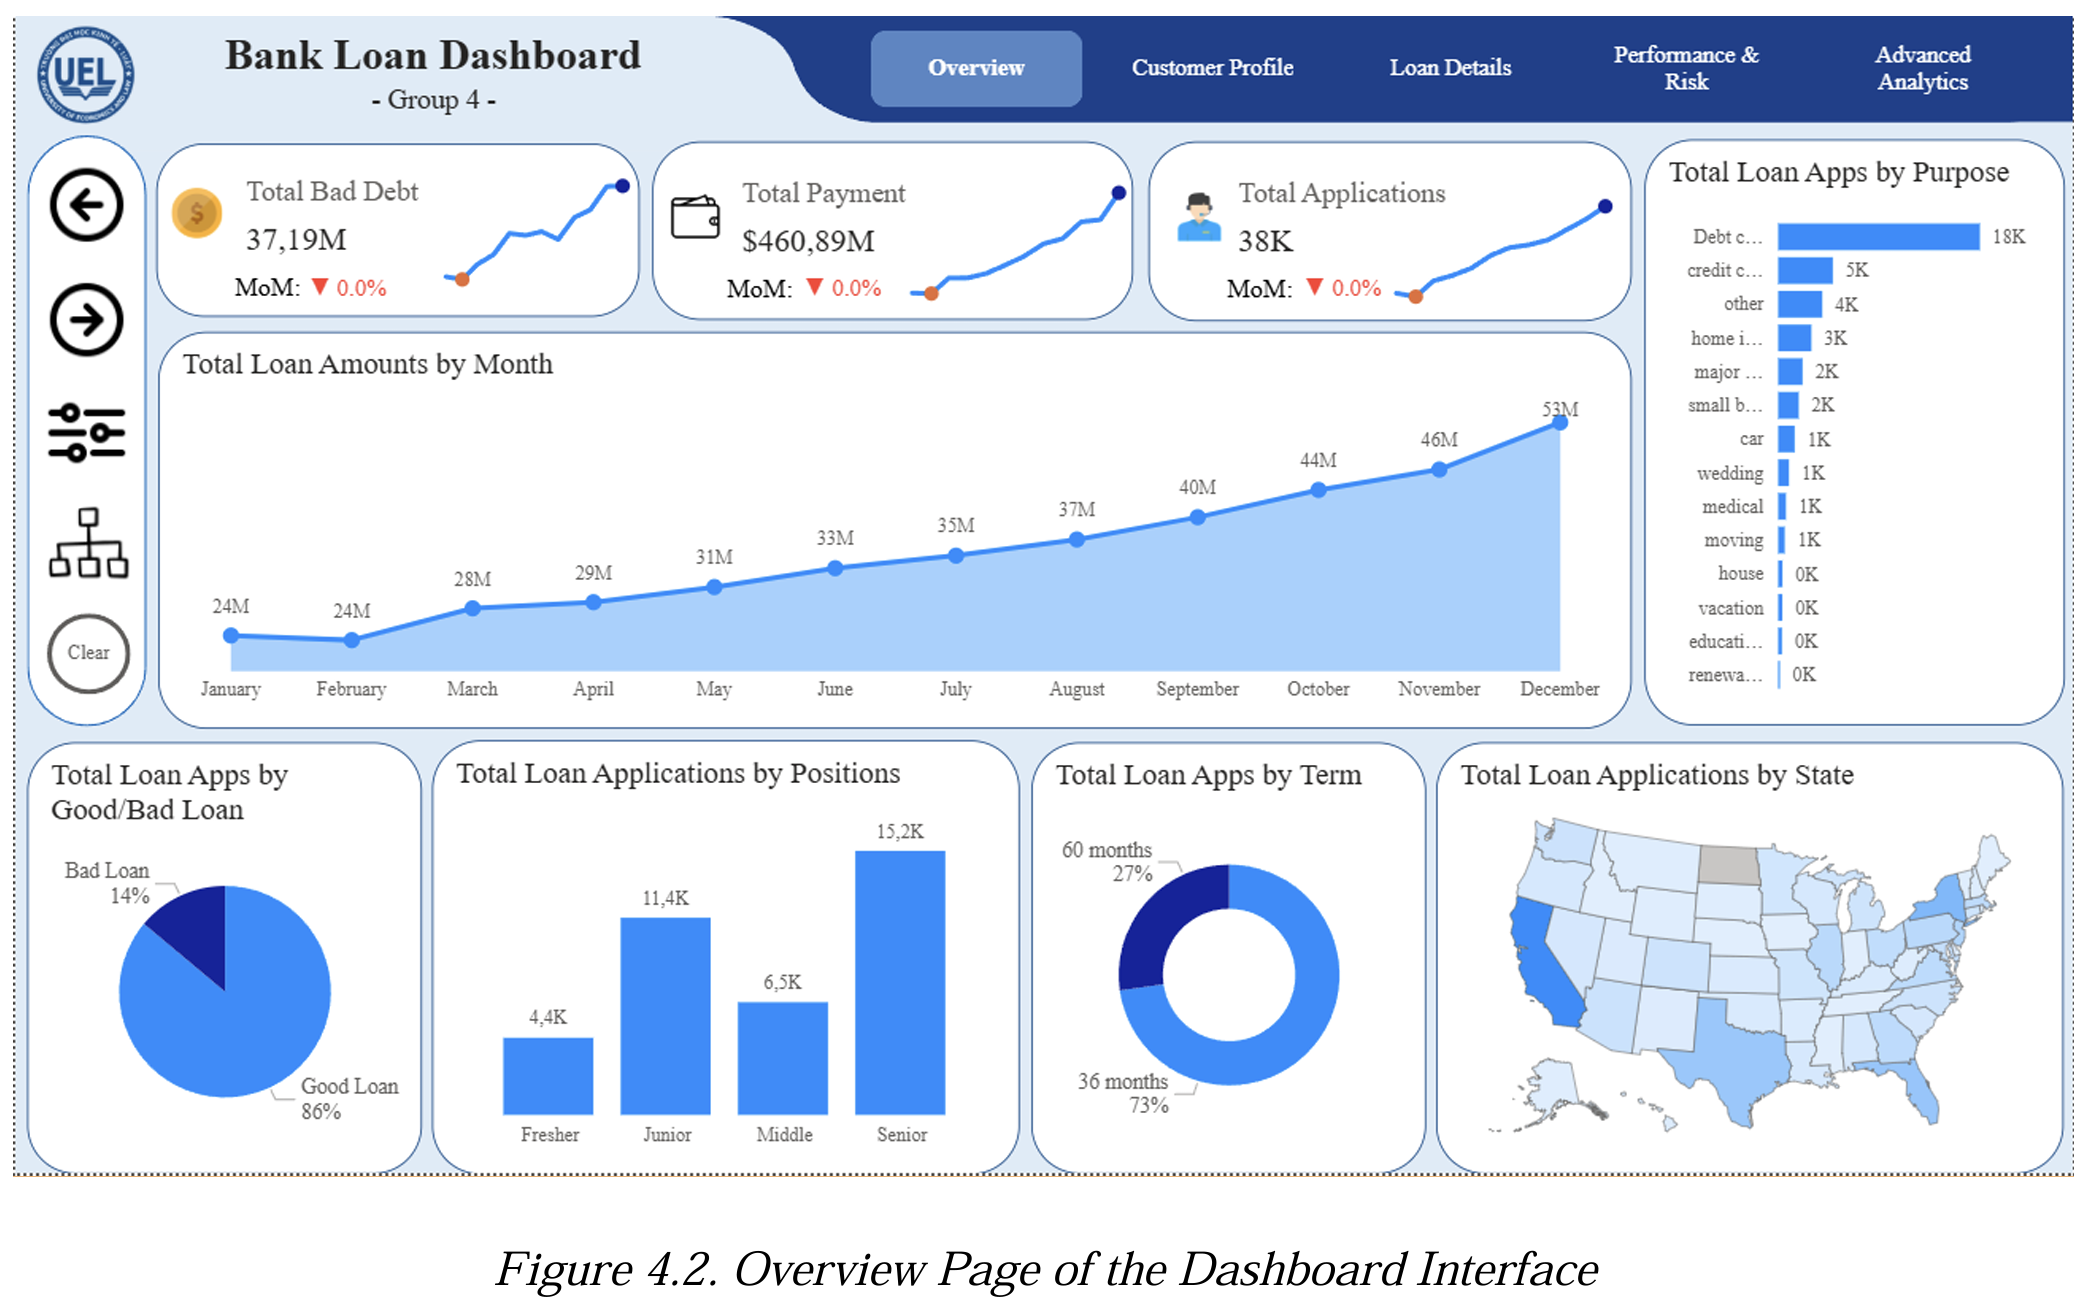

Layout of this report page (visuals, bound fields, positions):
{"tool":"powerbi","page":{"name":"Overview","canvas":[1280,720],"ordinal":1},"visuals":[{"type":"shape","box":[0,0,1280,720],"z":0},{"type":"shape","box":[482,0,792,66],"z":0,"group":"g7"},{"type":"pageNavigator","box":[532.5,8.8,132.6,48.8],"z":0,"group":"g8"},{"type":"group","id":"g1","title":"Group 4","box":[395.8,78,305.7,115.7],"z":0,"group":"g10"},{"type":"group","id":"g2","title":"Group 3","box":[395.8,78,305.7,115.7],"z":0,"group":"g1"},{"type":"cardVisual","fields":{"Data":["Measure.Total Payment"]},"box":[395.8,78,299.1,111.2],"z":0,"group":"g2"},{"type":"group","id":"g3","title":"Group 7","box":[704.7,78.1,300.8,111.8],"z":0,"group":"g11"},{"type":"group","id":"g4","title":"Group 9","box":[704.7,78.1,300.8,111.8],"z":0,"group":"g3"},{"type":"group","id":"g5","title":"Group 4","box":[704.7,78.1,300.8,111.8],"z":0,"group":"g4"},{"type":"group","id":"g6","title":"Group 3","box":[704.7,78.1,300.8,111.8],"z":0,"group":"g5"},{"type":"cardVisual","fields":{"Data":["Measure.Total Applications"]},"box":[704.7,78.1,300.8,111.8],"z":0,"group":"g6"},{"type":"cardVisual","fields":{"Data":["Measure.Total Loan Amount"]},"box":[87.7,78.6,300.6,108.1],"z":0,"group":"g9"},{"type":"shape","box":[381.5,0,898.8,42],"z":1000},{"type":"shape","box":[532,0,748.6,65.7],"z":1000,"group":"g7"},{"type":"pageNavigator","box":[827.1,8.8,132.6,48.8],"z":1000,"group":"g8"},{"type":"lineChart","fields":{"Category":["Dim_Time.Date.Variation.Date Hierarchy.Year","Dim_Time.Date.Variation.Date Hierarchy.Month"],"Y":["Measure.Total Applications","Measure.Max Total Applications","Measure.Min Total Applications"]},"box":[844.7,81.4,160,105],"z":1000,"group":"g6"},{"type":"lineChart","fields":{"Y":["Measure.Total Loan Amount","Measure.MaxSalesbyMonth","Measure.Min Total Loan Amount"],"Category":["Dim_Time.Date.Variation.Date Hierarchy.Year","Dim_Time.Date.Variation.Date Hierarchy.Month"]},"box":[252.7,83.6,140,100],"z":1000,"group":"g9"},{"type":"lineChart","fields":{"Category":["Dim_Time.Date.Variation.Date Hierarchy.Year","Dim_Time.Date.Variation.Date Hierarchy.Month"],"Y":["Measure.Total Payment","Measure.Max Total Payment","Measure.Min Total Payment"]},"box":[542.9,89.4,158.6,104.3],"z":1000,"group":"g2"},{"type":"image","box":[710.5,100.2,51.2,50],"z":1000,"group":"g11"},{"type":"image","box":[398.1,103.6,48.8,40.7],"z":1000,"group":"g10"},{"type":"shape","box":[0,0,492.5,83.8],"z":2000},{"type":"pageNavigator","box":[974.4,8.8,132.6,48.8],"z":2000,"group":"g8"},{"type":"image","box":[92.4,98.4,40.7,46.5],"z":2000,"group":"g9"},{"type":"shape","title":"Bank Loan Dashboard","box":[118.6,8.6,282.9,31.4],"z":3000},{"type":"pageNavigator","box":[679.8,8.8,132.6,48.8],"z":3000,"group":"g8"},{"type":"image","box":[7.1,0,72.9,72.9],"z":4000},{"type":"pageNavigator","box":[1121.7,8.8,132.6,48.8],"z":4000,"group":"g8"},{"type":"shape","title":"- Group 4 -","box":[214.8,41.9,91,20],"z":5000},{"type":"group","id":"g7","title":"Group 2","box":[482,0,798.6,66],"z":6000},{"type":"group","id":"g8","title":"Group 1","box":[532.5,8.8,721.2,48.8],"z":7000},{"type":"shapeMap","title":"Total Loan Applications by State","fields":{"Category":["dim_location.address_state"],"Value":["CountNonNull(fact_loan.loan_id)"]},"box":[884.3,451.4,390,268.6],"z":8000},{"type":"lineChart","title":"Total Loan Amounts by Month","fields":{"Category":["dim_Time.Date.Variation.Date Hierarchy.Month"],"Y":["Sum(fact_loan.loan_amount)"]},"box":[88.6,195.7,917.1,247.1],"z":9000},{"type":"donutChart","title":"Total Loan Apps by Term","fields":{"Category":["dim_term.term"],"Y":["CountNonNull(fact_loan.loan_id)"]},"box":[631.9,451.4,245.7,268.6],"z":10000},{"type":"barChart","title":"Total Loan Apps by Purpose","fields":{"Y":["CountNonNull(fact_loan.loan_id)"],"Category":["dim_purpose.purpose"]},"box":[1013.3,76.7,261.7,365],"z":11000},{"type":"columnChart","title":"Total Loan Applications by Positions","fields":{"Category":["dim_customer.Emp_Level"],"Y":["CountNonNull(dim_customer.customer_id)"]},"box":[259.5,450,365.7,270],"z":12000},{"type":"group","id":"g9","title":"Group 3","box":[87.7,78.6,305,108.1],"z":13000},{"type":"pieChart","title":"Total Loan Apps by Bad/Good Loan","fields":{"Y":["CountNonNull(fact_loan.loan_id)"],"Category":["dim_loanstatus.loan_status_category"]},"box":[7.1,451.4,245.7,268.6],"z":14000},{"type":"group","id":"g10","title":"Group 8","box":[395.8,78,305.7,115.7],"z":15000},{"type":"group","id":"g11","title":"Group 10","box":[704.7,78.1,300.8,111.8],"z":16000},{"type":"card","title":"Mom","fields":{"Values":["Measure.Application Growth Display"]},"box":[769.8,138.4,110.5,64],"z":17000},{"type":"card","title":"Mom","fields":{"Values":["Measure.Loan Growth Display"]},"box":[152.3,138.4,109.3,64],"z":18000,"group":"g12"},{"type":"card","title":"Mom","fields":{"Values":["Measure.Loan Payment Growth Display"]},"box":[459.3,138.4,110.5,64],"z":19000},{"type":"shape","box":[7.4,74.1,74.1,367.8],"z":20000},{"type":"actionButton","box":[19.3,372.2,51.9,50.4],"z":21000},{"type":"image","box":[14.8,158.7,59.3,59.3],"z":22000},{"type":"image","box":[14.8,229.8,59.3,59.3],"z":23000},{"type":"image","box":[16.3,298.1,59.3,59.3],"z":24000},{"type":"image","box":[14.8,87.5,59.3,59.3],"z":25000},{"type":"textbox","box":[129,155,61.6,38.4],"z":30000,"group":"g12"},{"type":"textbox","box":[435,155,61.6,38.4],"z":31000},{"type":"textbox","box":[746,155,61.6,38.4],"z":32000},{"type":"group","id":"g12","title":"Group 12","box":[129,138.4,132.6,64],"z":32001}]}

Visuals, with their boxes on the page's 1280x720 design canvas (x1, y1, x2, y2). These are canvas units, not pixel positions in the 2091x1312 screenshot, which may show the page scaled, cropped or inside an application window:
shape: {"x1": 0, "y1": 0, "x2": 1280, "y2": 720}
shape: {"x1": 482, "y1": 0, "x2": 1274, "y2": 66}
pageNavigator: {"x1": 532, "y1": 9, "x2": 665, "y2": 58}
"Group 4" group: {"x1": 396, "y1": 78, "x2": 702, "y2": 194}
"Group 3" group: {"x1": 396, "y1": 78, "x2": 702, "y2": 194}
cardVisual - Measure.Total Payment: {"x1": 396, "y1": 78, "x2": 695, "y2": 189}
"Group 7" group: {"x1": 705, "y1": 78, "x2": 1006, "y2": 190}
"Group 9" group: {"x1": 705, "y1": 78, "x2": 1006, "y2": 190}
"Group 4" group: {"x1": 705, "y1": 78, "x2": 1006, "y2": 190}
"Group 3" group: {"x1": 705, "y1": 78, "x2": 1006, "y2": 190}
cardVisual - Measure.Total Applications: {"x1": 705, "y1": 78, "x2": 1006, "y2": 190}
cardVisual - Measure.Total Loan Amount: {"x1": 88, "y1": 79, "x2": 388, "y2": 187}
shape: {"x1": 382, "y1": 0, "x2": 1280, "y2": 42}
shape: {"x1": 532, "y1": 0, "x2": 1281, "y2": 66}
pageNavigator: {"x1": 827, "y1": 9, "x2": 960, "y2": 58}
lineChart - Dim_Time.Date.Variation.Date Hierarchy.Year x Dim_Time.Date.Variation.Date Hierarchy.Month: {"x1": 845, "y1": 81, "x2": 1005, "y2": 186}
lineChart - Measure.Total Loan Amount x Measure.MaxSalesbyMonth: {"x1": 253, "y1": 84, "x2": 393, "y2": 184}
lineChart - Dim_Time.Date.Variation.Date Hierarchy.Year x Dim_Time.Date.Variation.Date Hierarchy.Month: {"x1": 543, "y1": 89, "x2": 702, "y2": 194}
image: {"x1": 710, "y1": 100, "x2": 762, "y2": 150}
image: {"x1": 398, "y1": 104, "x2": 447, "y2": 144}
shape: {"x1": 0, "y1": 0, "x2": 492, "y2": 84}
pageNavigator: {"x1": 974, "y1": 9, "x2": 1107, "y2": 58}
image: {"x1": 92, "y1": 98, "x2": 133, "y2": 145}
"Bank Loan Dashboard" shape: {"x1": 119, "y1": 9, "x2": 402, "y2": 40}
pageNavigator: {"x1": 680, "y1": 9, "x2": 812, "y2": 58}
image: {"x1": 7, "y1": 0, "x2": 80, "y2": 73}
pageNavigator: {"x1": 1122, "y1": 9, "x2": 1254, "y2": 58}
"- Group 4 -" shape: {"x1": 215, "y1": 42, "x2": 306, "y2": 62}
"Group 2" group: {"x1": 482, "y1": 0, "x2": 1281, "y2": 66}
"Group 1" group: {"x1": 532, "y1": 9, "x2": 1254, "y2": 58}
"Total Loan Applications by State" shapeMap: {"x1": 884, "y1": 451, "x2": 1274, "y2": 720}
"Total Loan Amounts by Month" lineChart: {"x1": 89, "y1": 196, "x2": 1006, "y2": 443}
"Total Loan Apps by Term" donutChart: {"x1": 632, "y1": 451, "x2": 878, "y2": 720}
"Total Loan Apps by Purpose" barChart: {"x1": 1013, "y1": 77, "x2": 1275, "y2": 442}
"Total Loan Applications by Positions" columnChart: {"x1": 260, "y1": 450, "x2": 625, "y2": 720}
"Group 3" group: {"x1": 88, "y1": 79, "x2": 393, "y2": 187}
"Total Loan Apps by Bad/Good Loan" pieChart: {"x1": 7, "y1": 451, "x2": 253, "y2": 720}
"Group 8" group: {"x1": 396, "y1": 78, "x2": 702, "y2": 194}
"Group 10" group: {"x1": 705, "y1": 78, "x2": 1006, "y2": 190}
"Mom" card: {"x1": 770, "y1": 138, "x2": 880, "y2": 202}
"Mom" card: {"x1": 152, "y1": 138, "x2": 262, "y2": 202}
"Mom" card: {"x1": 459, "y1": 138, "x2": 570, "y2": 202}
shape: {"x1": 7, "y1": 74, "x2": 82, "y2": 442}
actionButton: {"x1": 19, "y1": 372, "x2": 71, "y2": 423}
image: {"x1": 15, "y1": 159, "x2": 74, "y2": 218}
image: {"x1": 15, "y1": 230, "x2": 74, "y2": 289}
image: {"x1": 16, "y1": 298, "x2": 76, "y2": 357}
image: {"x1": 15, "y1": 88, "x2": 74, "y2": 147}
textbox: {"x1": 129, "y1": 155, "x2": 191, "y2": 193}
textbox: {"x1": 435, "y1": 155, "x2": 497, "y2": 193}
textbox: {"x1": 746, "y1": 155, "x2": 808, "y2": 193}
"Group 12" group: {"x1": 129, "y1": 138, "x2": 262, "y2": 202}
